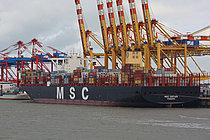Ship: (15, 65, 206, 111)
